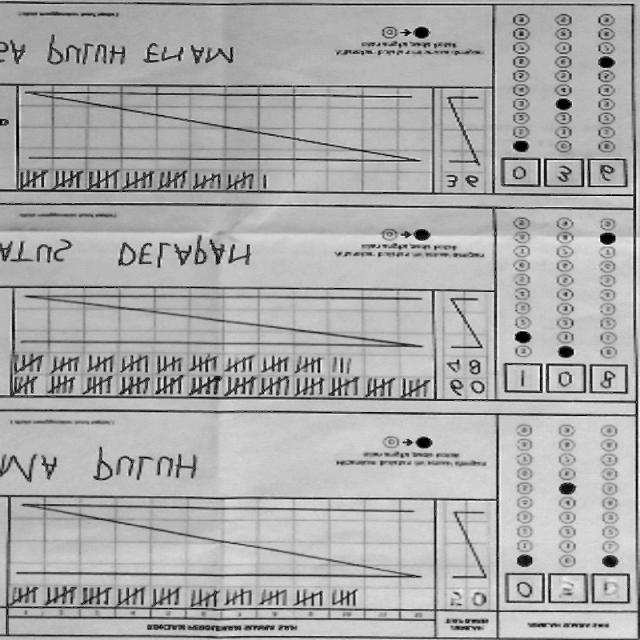Suara: (501, 571, 633, 611), (499, 362, 630, 400), (496, 158, 630, 192)
